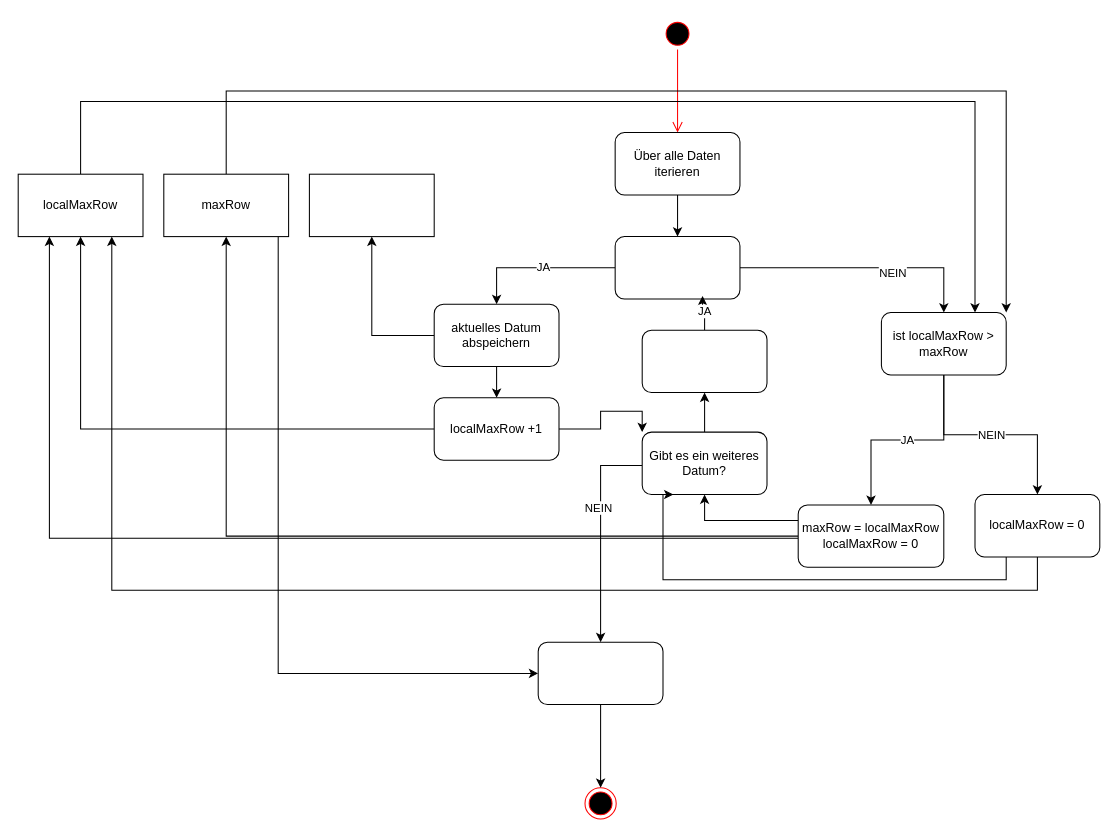
Image size: 1118x837. Some labels were removed from this diagram. The centre of each missing label's shape, as x and y in pixels:
Ist Datum > X: the point at 677,267
localMaxDate: the point at 371,205
maxRow zurück geben: the point at 600,673
nächstes Datum: the point at 704,361
